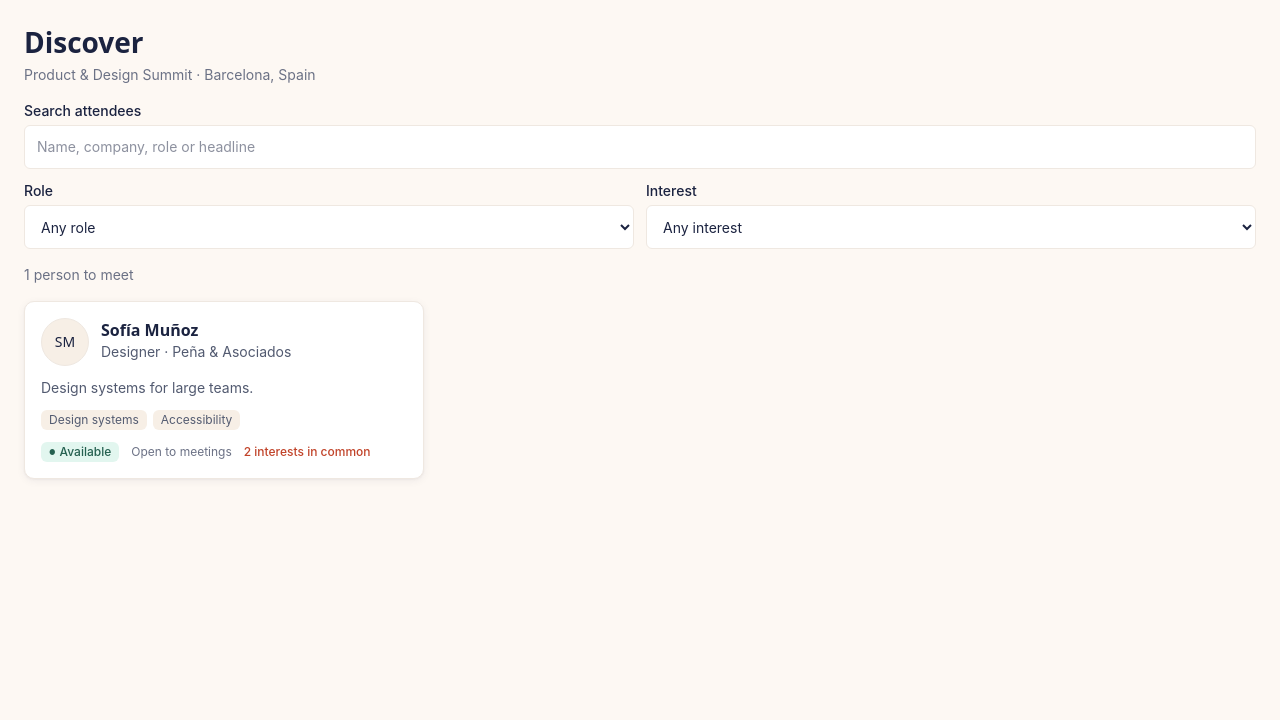
Test: Discover: labelling and announcement › states how many narrowings are applied, and offers one control that clears them all
This screenshot has width=1280, height=720.
expect the heading "Sofía Muñoz" is shown: met, box [101,319,198,341]
expect the button "clear all" is not shown: met
Step 1. Select "Designer" in the dropdown labelled "Role" → (329, 227), box [24,205,634,249]
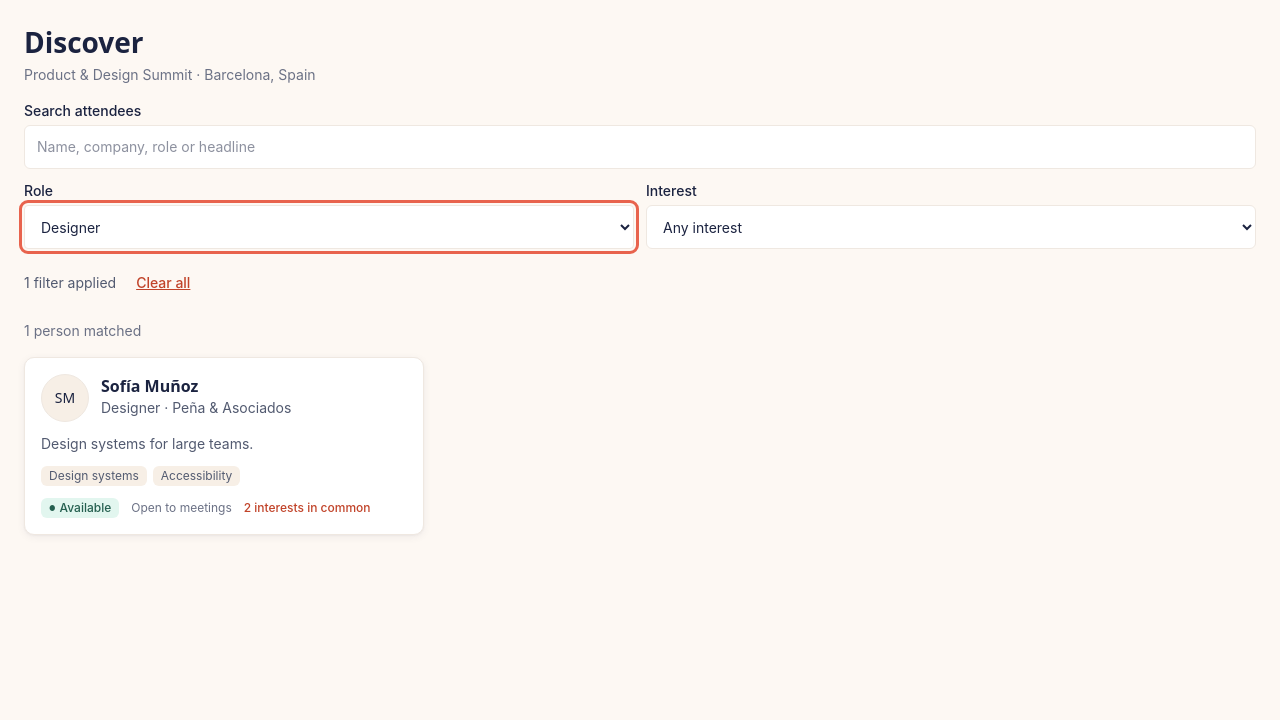
expect the text "1 filter applied" is shown: met, box [24,273,116,293]
Step 2. Select "Accessibility" in the dropdown labelled "Interest" → (951, 227), box [646,205,1256,249]
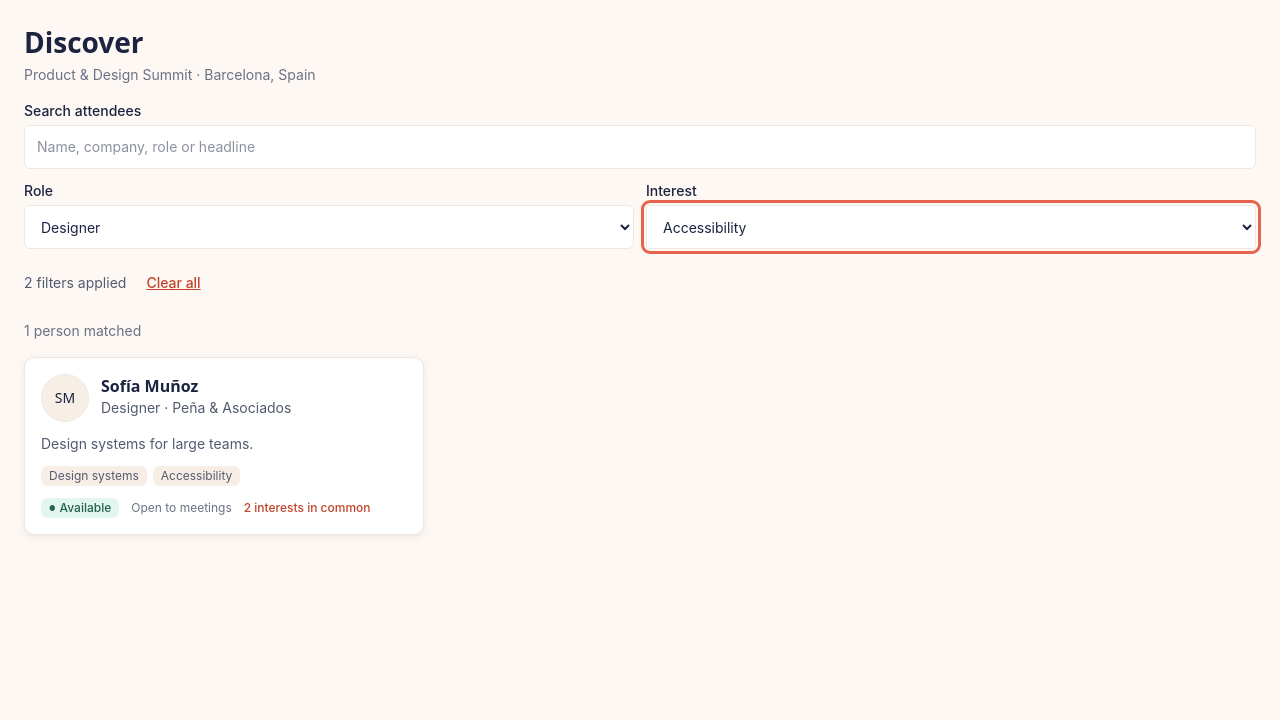
expect the text "2 filters applied" is shown: met, box [24,273,126,293]
Step 3. Click the button "Clear all" → (174, 283), box [138,261,209,305]
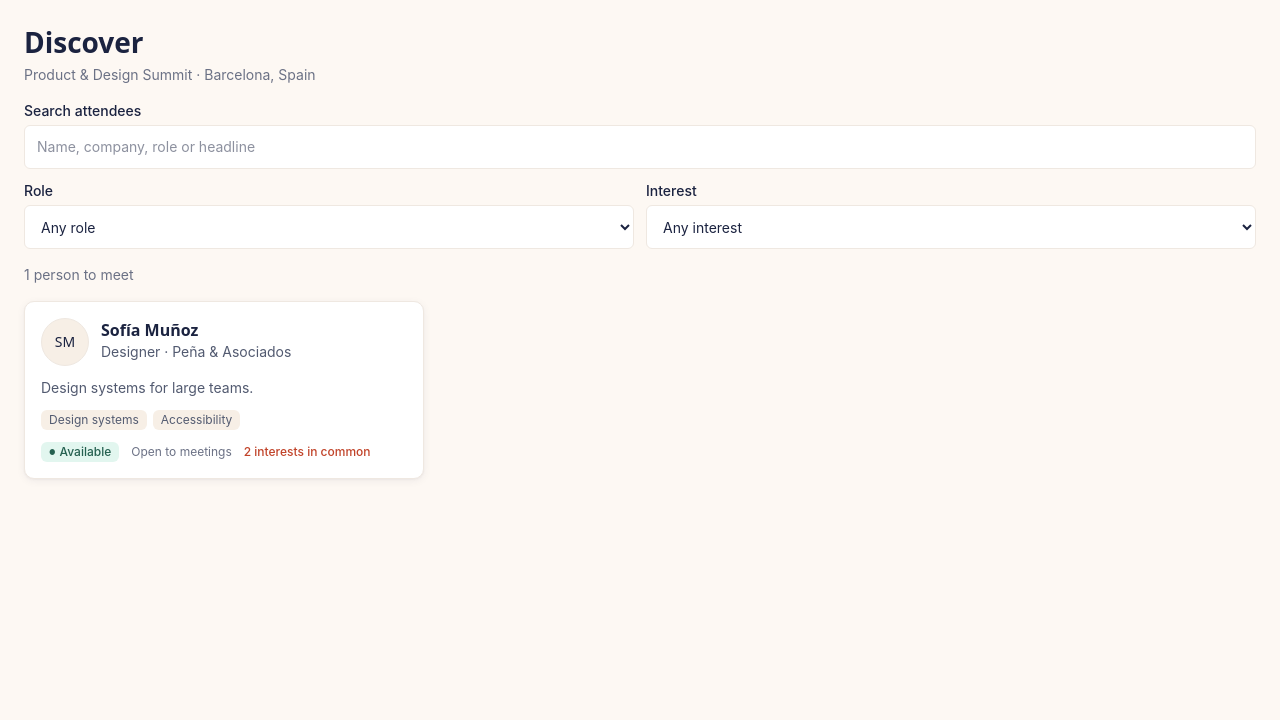
expect the text "2 filters applied" is gone: met
